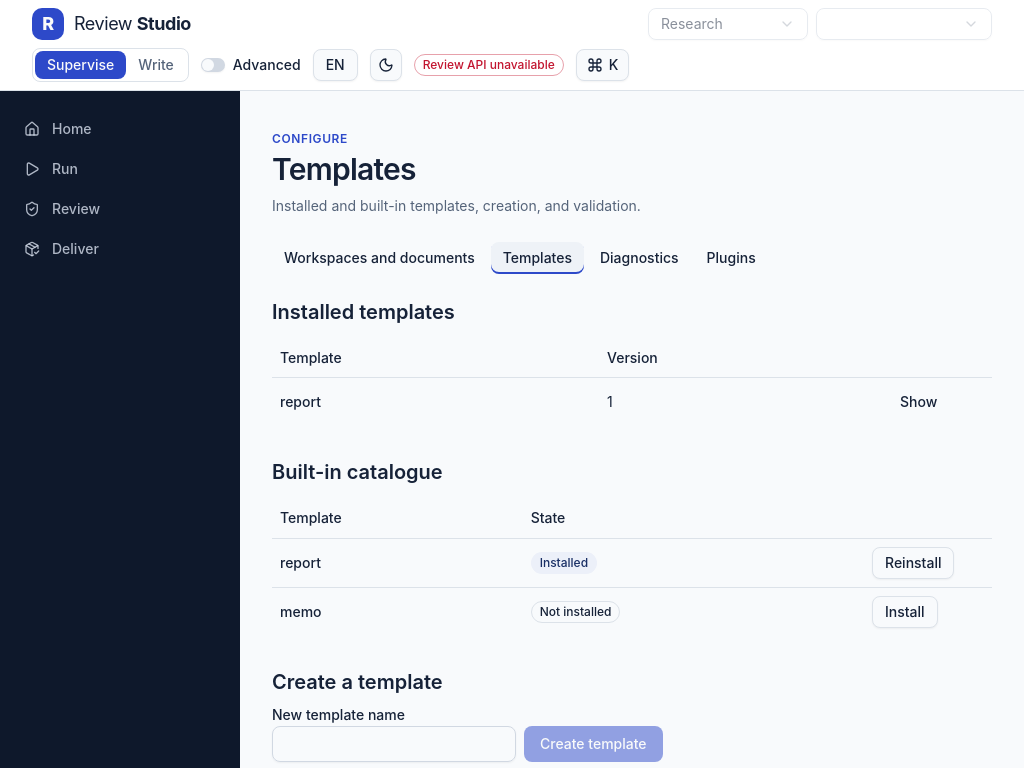
Test: template editor › keeps the existing template when the overwrite is cancelled
Click the button with aria-label "Install memo": x=905, y=612 [872,596,938,628]
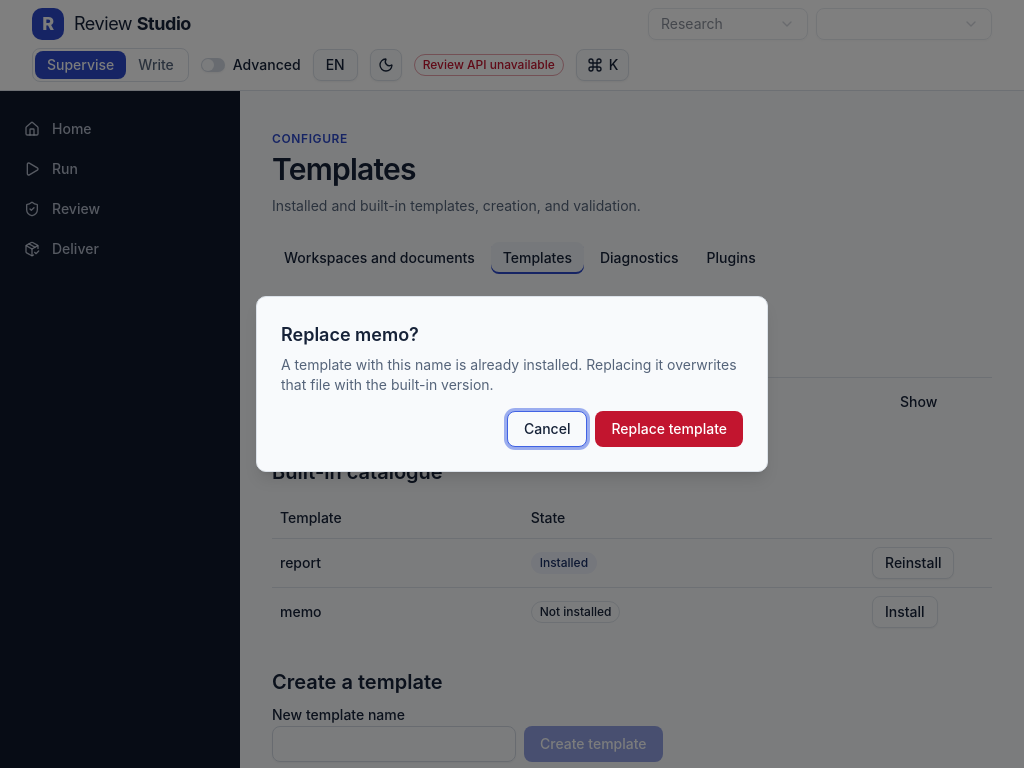
Click the button "Cancel": x=547, y=429 [507,411,588,447]
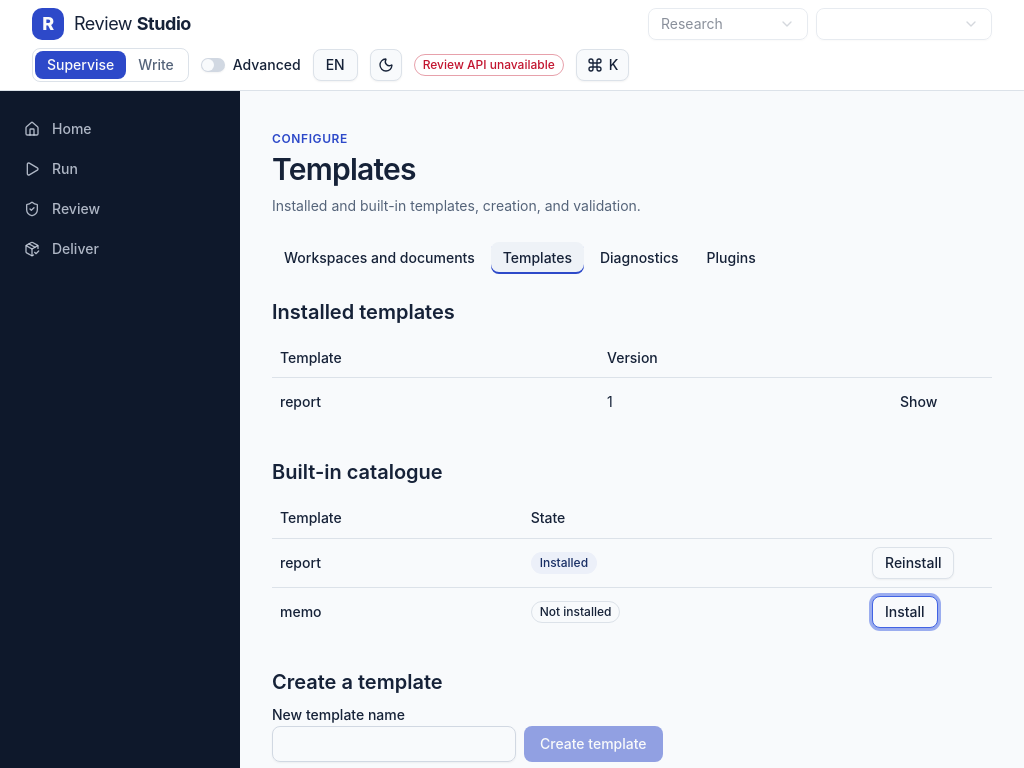
Expected: the dialog is gone
